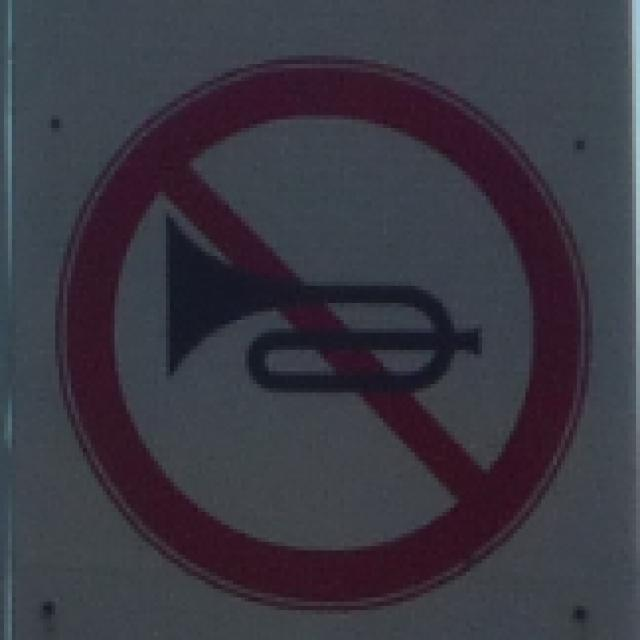No Horn: (54, 54, 603, 623)
